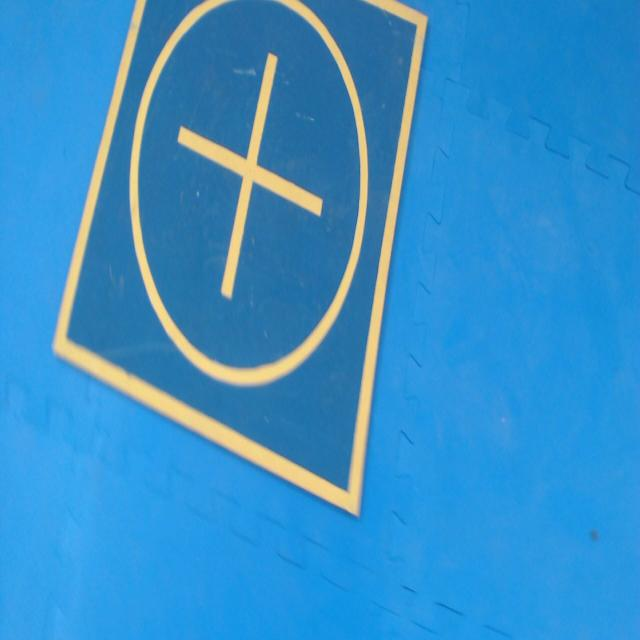base_pouso: (52, 0, 430, 521)
